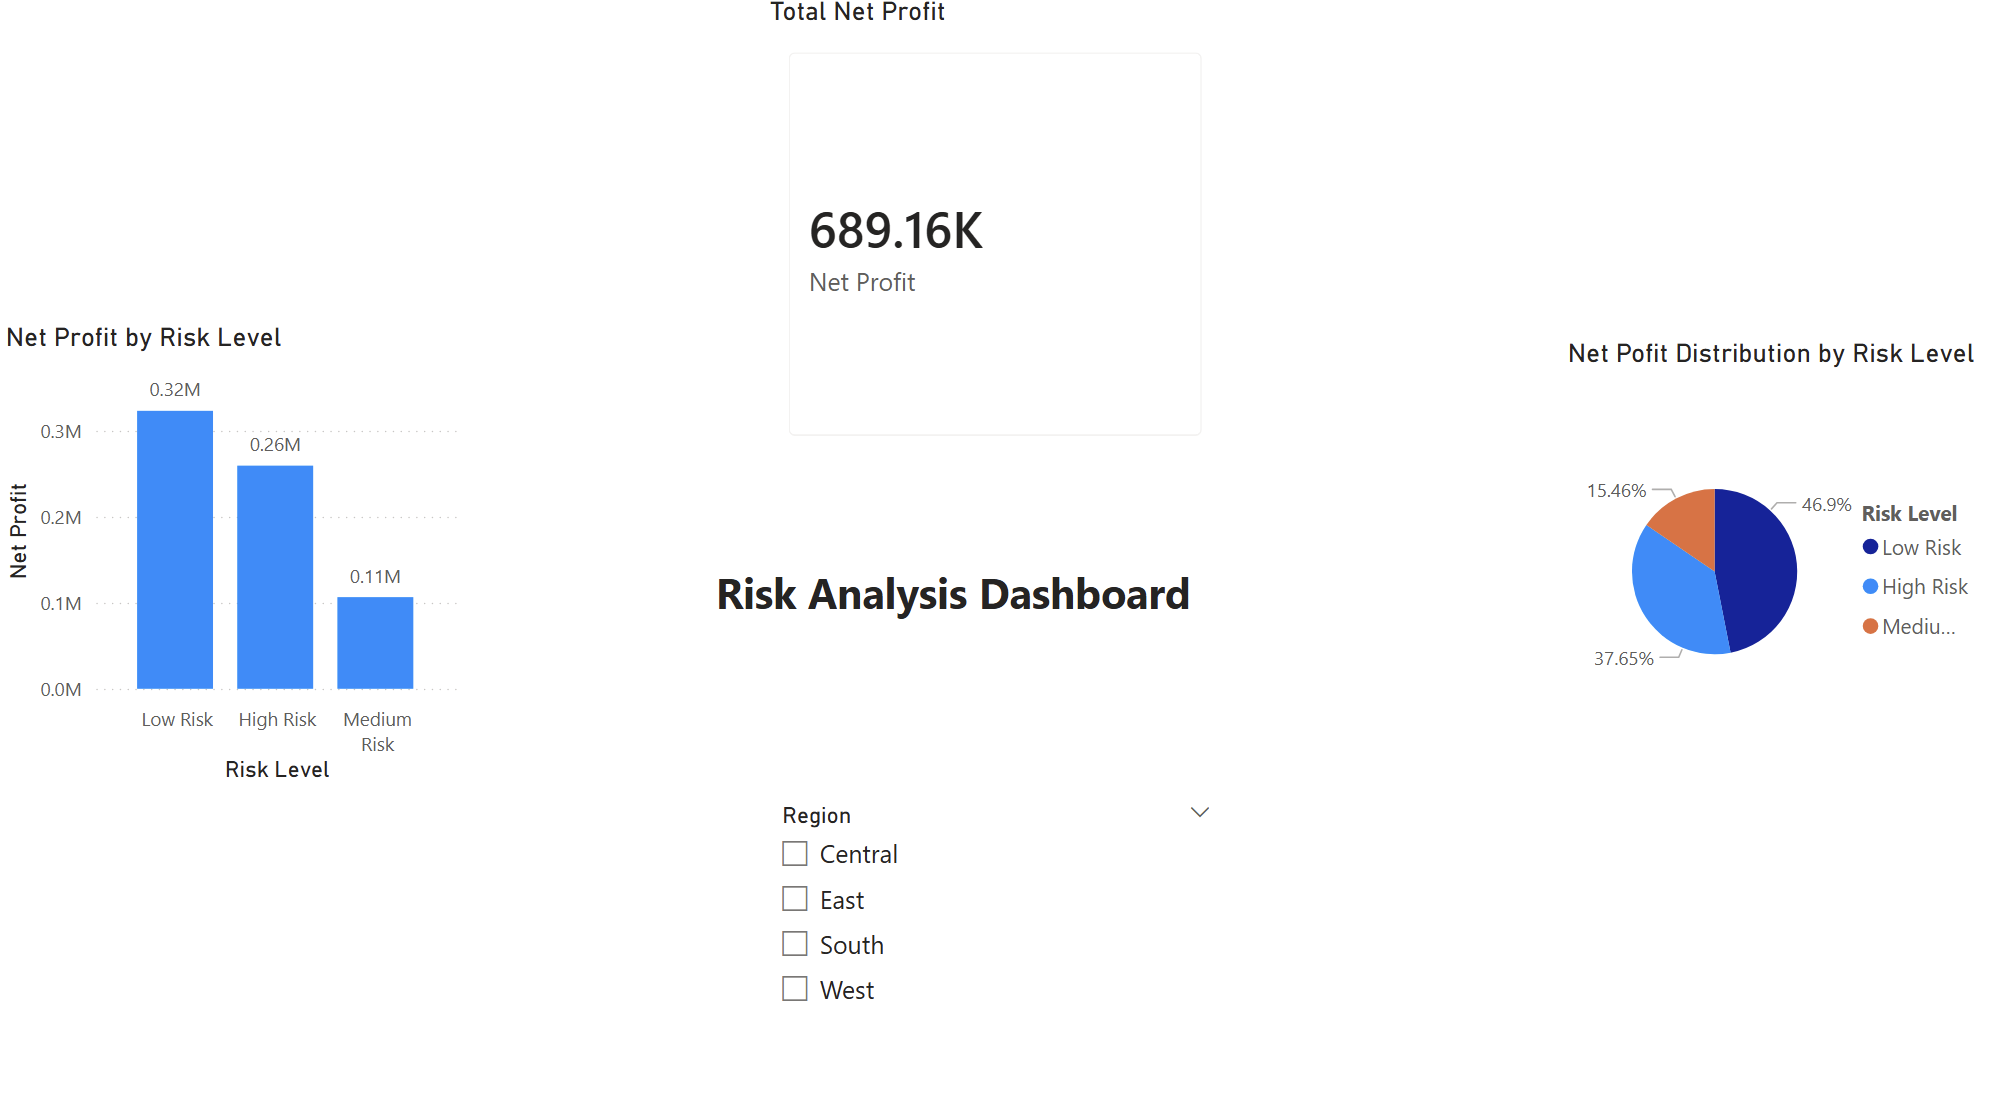

What the dashboard file says about the page in this screenshot:
{"tool":"powerbi","page":{"name":"Page 2","canvas":[1280,720],"ordinal":1},"visuals":[{"type":"pieChart","title":"Net Pofit Distribution by Risk Level","fields":{"Category":["Orders.Risk Level"],"Y":["Orders.Net Profit"]},"box":[1000.8,219.3,279.2,280.5],"z":0},{"type":"clusteredColumnChart","title":"Net Profit by Risk Level","fields":{"Category":["Orders.Risk Level"],"Y":["Orders.Net Profit"]},"box":[0,209.1,299.6,299.6],"z":1000},{"type":"cardVisual","title":"Total Net Profit","fields":{"Data":["Orders.Net Profit"]},"box":[489.6,0,299.6,299.6],"z":2000},{"type":"slicer","fields":{"Values":["Orders.Region"]},"box":[489.6,511.2,299.6,209.1],"z":2001},{"type":"textbox","box":[455.1,359.5,317.5,57.4],"z":2002}]}

Visuals, with their boxes in screenshot pixels (x1, y1, x2, y2), scaled from the page's 1280x720 canvas onto the 1994x1118 screenshot:
"Net Pofit Distribution by Risk Level" pieChart: [left=1559, top=341, right=1993, bottom=776]
"Net Profit by Risk Level" clusteredColumnChart: [left=0, top=325, right=467, bottom=790]
"Total Net Profit" cardVisual: [left=763, top=0, right=1229, bottom=465]
slicer - Orders.Region: [left=763, top=794, right=1229, bottom=1117]
textbox: [left=709, top=558, right=1204, bottom=647]
